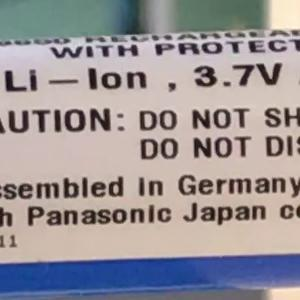keyword: (184, 53, 292, 97)
